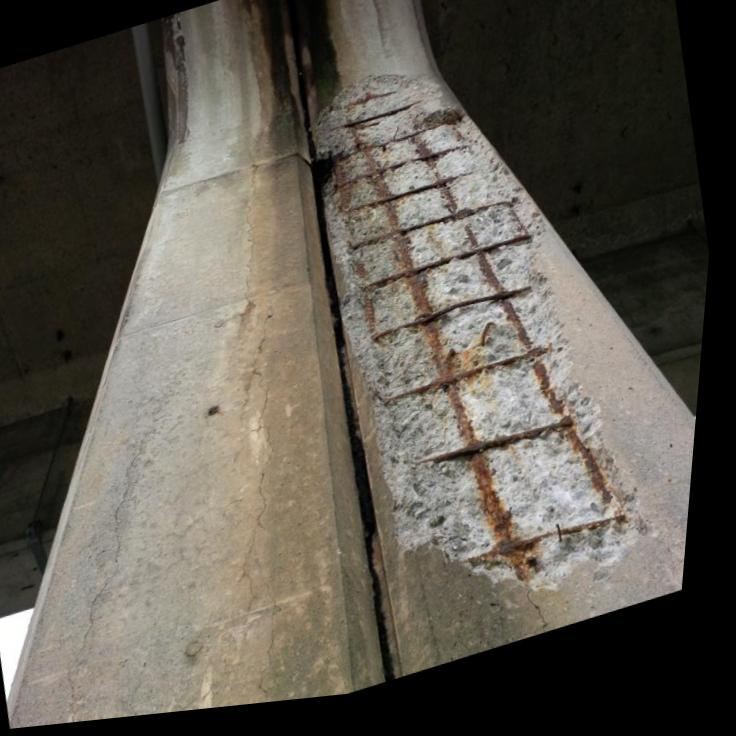damage: (309, 83, 663, 600)
